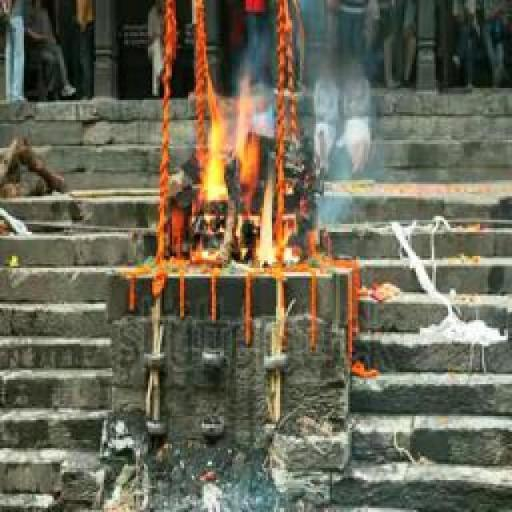smoke: (202, 69, 292, 266)
